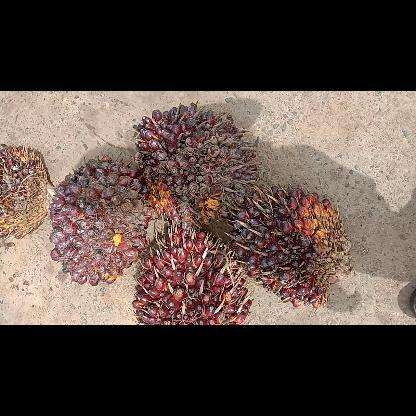Kurang masak: (130, 100, 257, 238), (131, 224, 254, 324)
TBS mentah: (222, 183, 356, 311), (43, 152, 167, 288)
